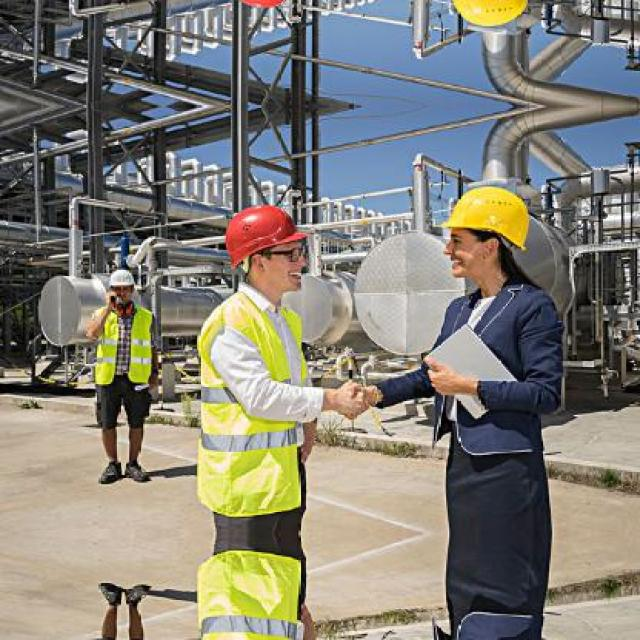helmet: (439, 184, 527, 280), (220, 200, 309, 292), (438, 0, 527, 29), (109, 268, 134, 304)
